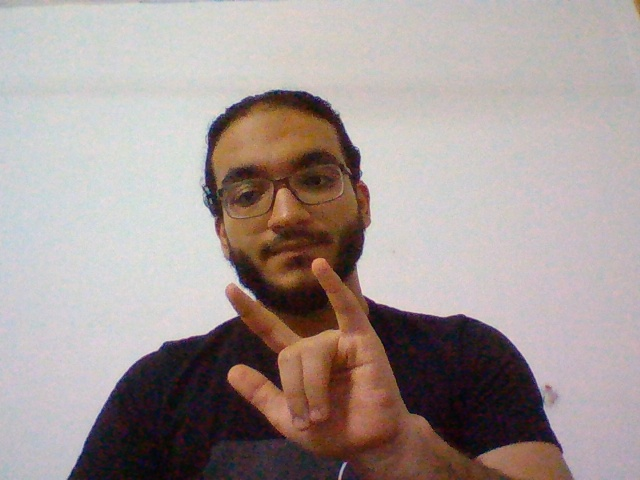I Love Yoy: (198, 259, 433, 454)
